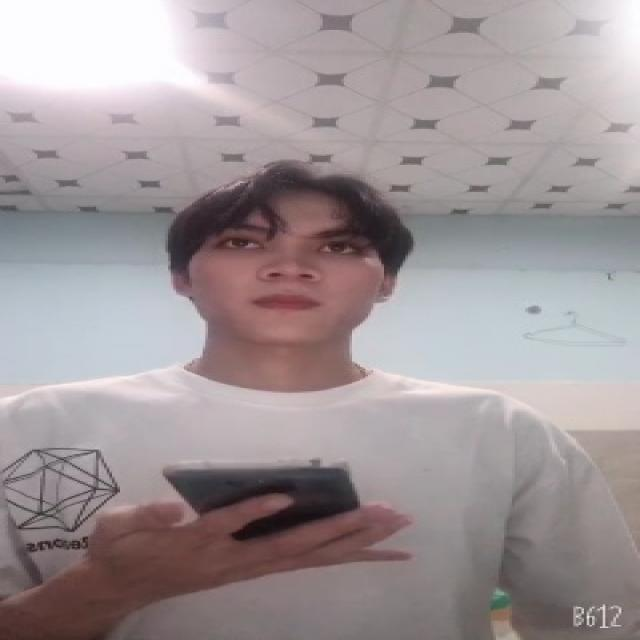Phone: (160, 457, 362, 539)
